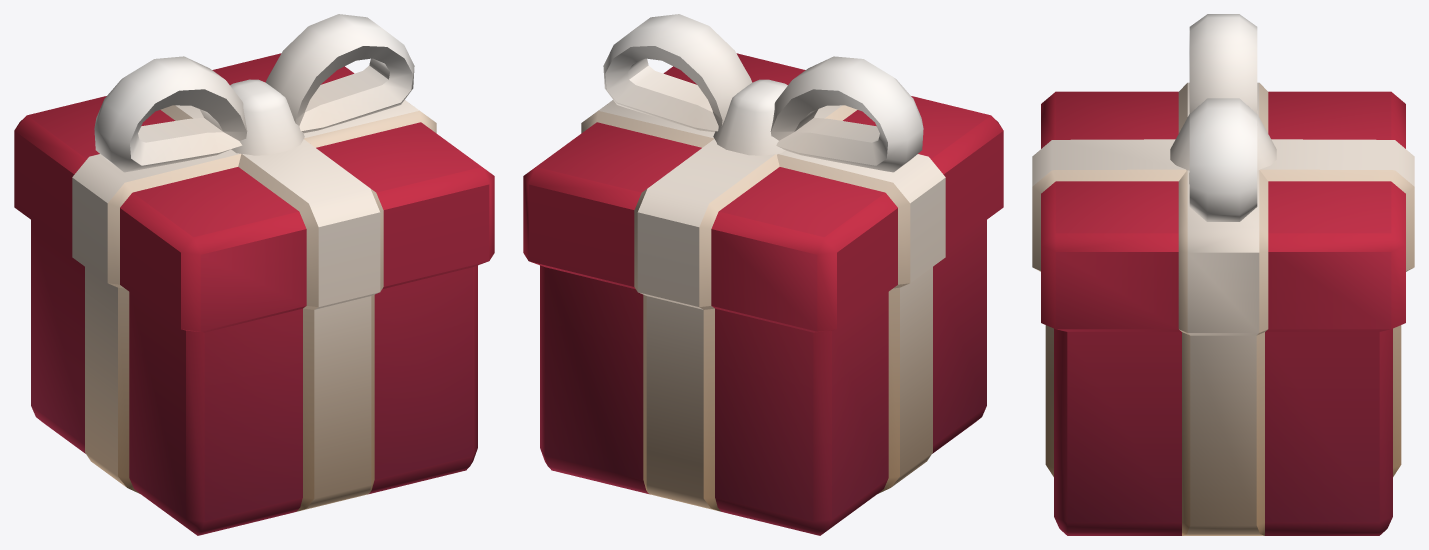
Rendered from present_A_red.fbx.
3 views of the same model, side by side, from view 1: azimuth 30°, elevation 25°; view 2: azimuth 150°, elevation 25°; view 3: azimuth 270°, elevation 25° (orthographic).
Parts seen in each view (by area): view 1: present_A_red; view 2: present_A_red; view 3: present_A_red.
Part boxes in pixels (left/top/right/bottom): present_A_red: left=14, top=14, right=494, bottom=535; present_A_red: left=523, top=14, right=1003, bottom=535; present_A_red: left=1032, top=14, right=1414, bottom=535.
Size of the model in its own units: 56.38 by 66.17 by 56.38.
